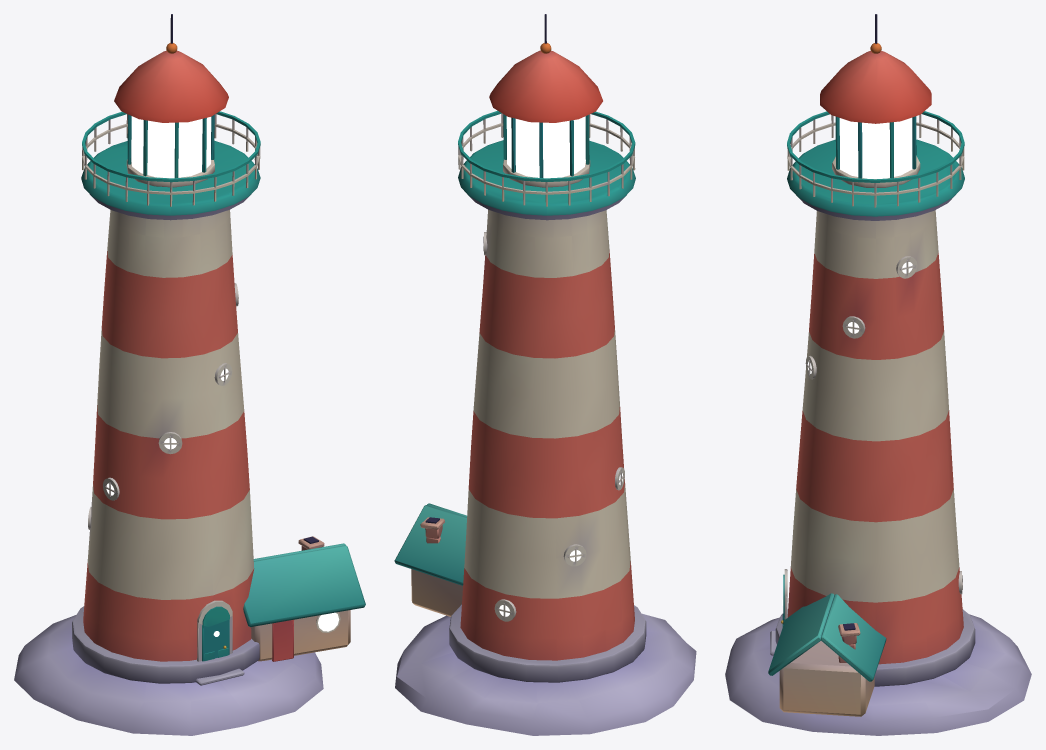
The model's file is common_town_lighthouse.glb.
3 views of the same model, side by side, from view 1: azimuth 30°, elevation 25°; view 2: azimuth 150°, elevation 25°; view 3: azimuth 270°, elevation 25° (orthographic).
Parts seen in each view (by area): view 1: common_town_lighthouse; view 2: common_town_lighthouse; view 3: common_town_lighthouse.
Boxes of the visible parts, x1=… form: common_town_lighthouse: x1=14, y1=14, x2=365, y2=735; common_town_lighthouse: x1=394, y1=14, x2=696, y2=735; common_town_lighthouse: x1=725, y1=14, x2=1031, y2=735.
Size of the model in its own units: 11.5 by 25.2 by 10.6.
